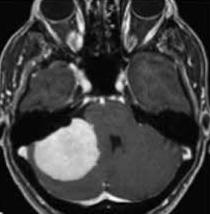Tumour-Meningioma: (20, 107, 113, 201)
